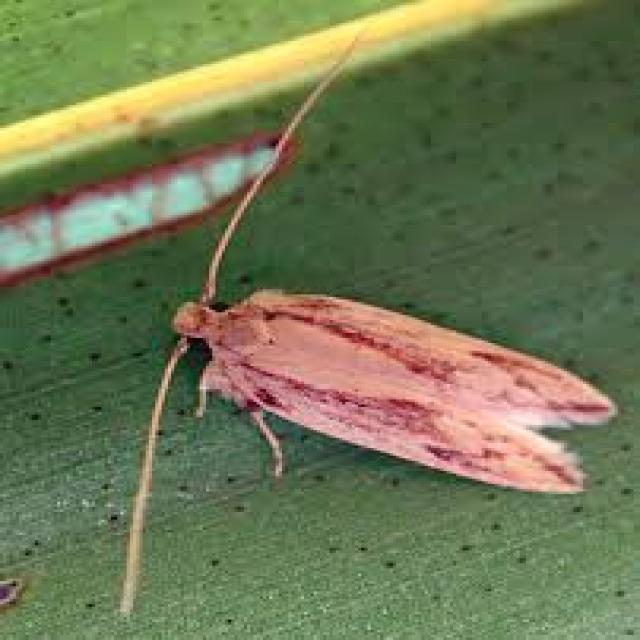yellow-stem-borer: (94, 158, 593, 584)
